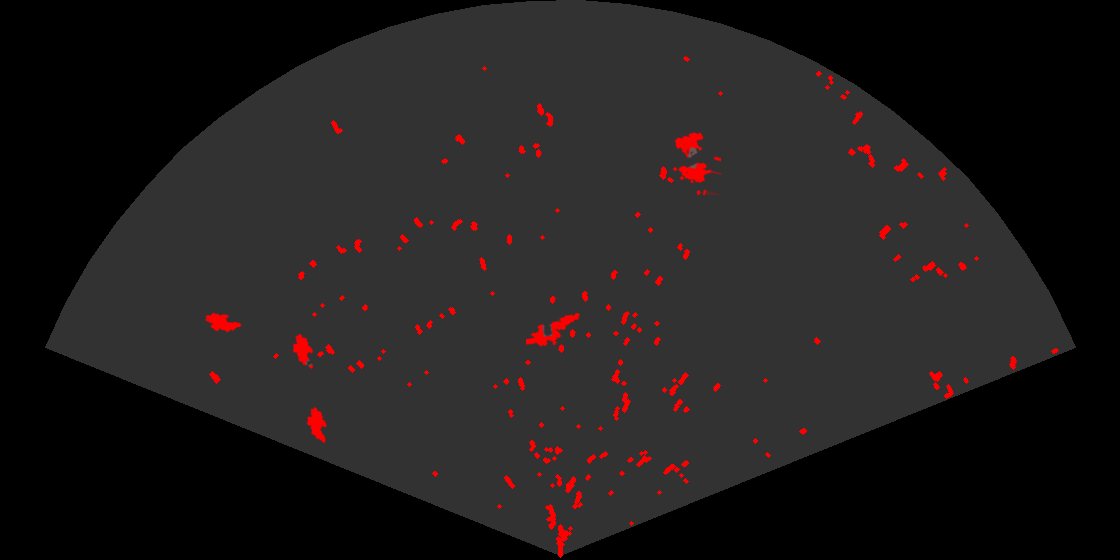AUV: (305, 405, 329, 445), (291, 332, 315, 371), (203, 311, 244, 333)
cage: (671, 131, 721, 195)
frogman: (526, 311, 582, 348)
